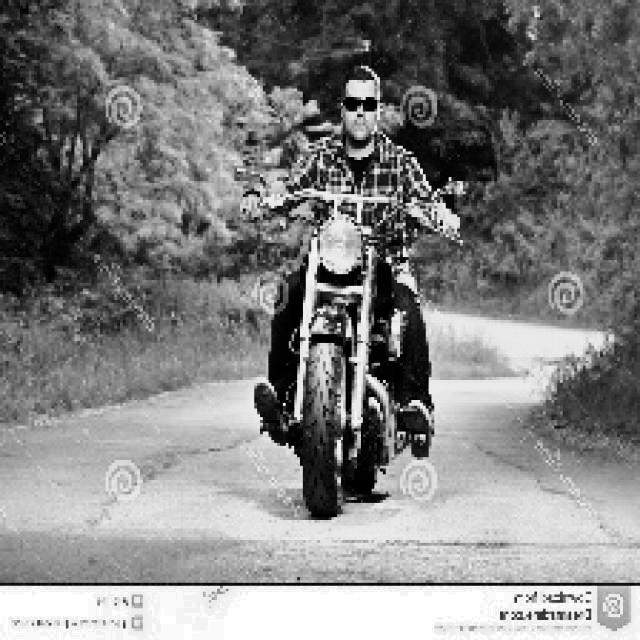Bike: (277, 191, 413, 525)
